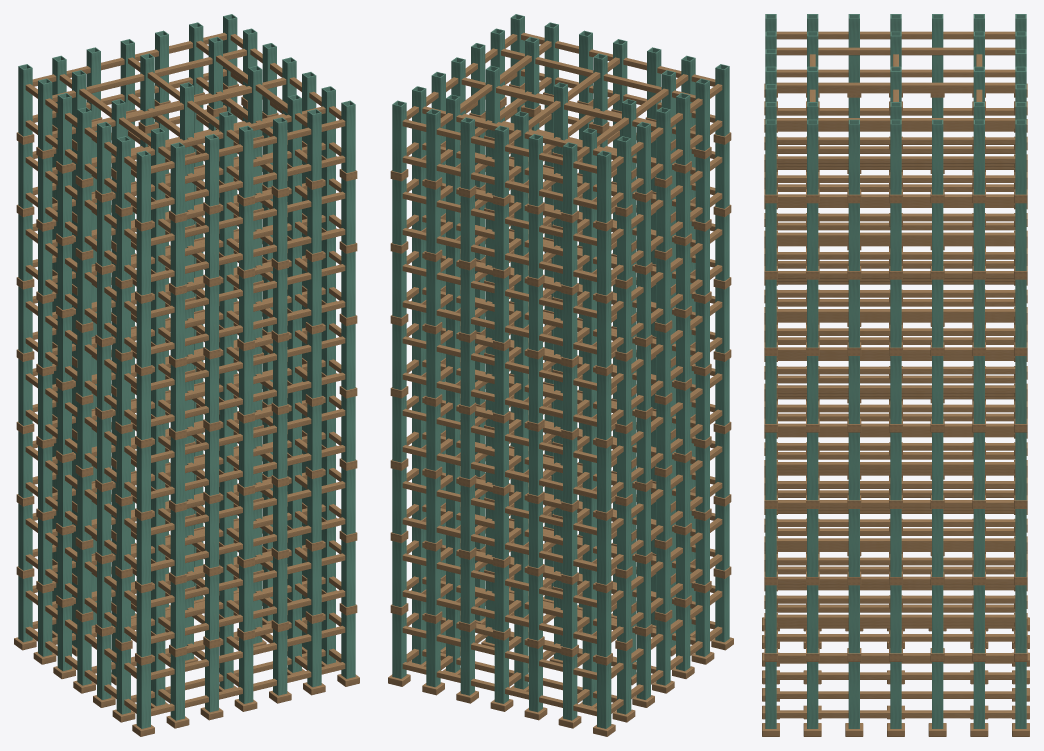
3 views of the same model, side by side, from view 1: azimuth 30°, elevation 25°; view 2: azimuth 150°, elevation 25°; view 3: azimuth 270°, elevation 25° (orthographic). The views are drawn at different scales.
Parts seen in each view (by area): view 1: Tier 7 internal tie 0-0.56-0-0.75, Tier 7 internal tie 0-0-0-0.75, Tier 2 tie 0-0-0.25, Tier 2 tie 0-0-0.75, Tier 3 tie 0-0-0.25, Tier 5 tie 0-0-0.75, Tier 6 tie 0-0-0.75, Tier 0 tie 0-0-0.75, Tier 1 tie 0-0-0.25, Tier 5 tie 0-0-0.25, Tier 0 tie 0-0-0.25, Tier 4 tie 0-0-0.25 (+187 smaller); view 2: Tier 7 internal tie 0--0.56-0-0.75, Tier 7 internal tie 0-0-0-0.75, Tier 2 tie 2-0-0.25, Tier 2 tie 2-0-0.75, Tier 3 tie 2-0-0.25, Tier 5 tie 2-0-0.75, Tier 6 tie 2-0-0.75, Tier 0 tie 2-0-0.75, Tier 1 tie 2-0-0.25, Tier 5 tie 2-0-0.25, Tier 0 tie 2-0-0.25, Tier 4 tie 2-0-0.25 (+187 smaller); view 3: Tier 7 internal tie 1--0.56-0-0.75, Tier 7 internal tie 1-0-0-0.75, Tier 0 tie 1-0-0.25, Tier 1 internal tie 1-0.56-0-0.25, Tier 1 tie 1-0-0.75, Tier 4 internal tie 1-0.56-0-0.25, Tier 2 tie 1-0-0.25, Tier 4 tie 1-0-0.25, Tier 4 tie 1-0-0.75, Tier 6 internal tie 1-0.56-0-0.25, Tier 6 tie 1-0-0.75, Tier 7 tie 3-0-0.25 (+126 smaller).
Part boxes in pixels (x1,y1,x2,y2): Tier 7 internal tie 0-0.56-0-0.75: [52, 48, 246, 102]; Tier 7 internal tie 0-0-0-0.75: [91, 77, 286, 130]; Tier 2 tie 0-0-0.25: [151, 517, 345, 571]; Tier 2 tie 0-0-0.75: [151, 481, 345, 535]; Tier 3 tie 0-0-0.25: [151, 445, 345, 499]; Tier 5 tie 0-0-0.75: [151, 264, 345, 318]; Tier 6 tie 0-0-0.75: [151, 191, 345, 245]; Tier 0 tie 0-0-0.75: [151, 625, 345, 679]; Tier 1 tie 0-0-0.25: [151, 589, 345, 643]; Tier 5 tie 0-0-0.25: [151, 300, 345, 354]; Tier 0 tie 0-0-0.25: [151, 662, 345, 716]; Tier 4 tie 0-0-0.25: [151, 372, 345, 426]; Tier 7 internal tie 0--0.56-0-0.75: [501, 48, 695, 102]; Tier 7 internal tie 0-0-0-0.75: [461, 77, 656, 130]; Tier 2 tie 2-0-0.25: [402, 517, 596, 571]; Tier 2 tie 2-0-0.75: [402, 481, 596, 535]; Tier 3 tie 2-0-0.25: [402, 445, 596, 499]; Tier 5 tie 2-0-0.75: [402, 264, 596, 318]; Tier 6 tie 2-0-0.75: [402, 191, 596, 245]; Tier 0 tie 2-0-0.75: [402, 625, 596, 679]; Tier 1 tie 2-0-0.25: [402, 589, 596, 643]; Tier 5 tie 2-0-0.25: [402, 300, 596, 354]; Tier 0 tie 2-0-0.25: [402, 662, 596, 716]; Tier 4 tie 2-0-0.25: [402, 372, 596, 426]; Tier 7 internal tie 1--0.56-0-0.75: [776, 47, 1015, 55]; Tier 7 internal tie 1-0-0-0.75: [776, 82, 1015, 90]; Tier 0 tie 1-0-0.25: [776, 710, 1015, 718]; Tier 1 internal tie 1-0.56-0-0.25: [776, 614, 1015, 622]; Tier 1 tie 1-0-0.75: [776, 595, 1015, 603]; Tier 4 internal tie 1-0.56-0-0.25: [776, 385, 1015, 393]; Tier 2 tie 1-0-0.25: [776, 557, 1015, 565]; Tier 4 tie 1-0-0.25: [776, 404, 1015, 412]; Tier 4 tie 1-0-0.75: [776, 366, 1015, 374]; Tier 6 internal tie 1-0.56-0-0.25: [776, 232, 1015, 240]; Tier 6 tie 1-0-0.75: [776, 213, 1015, 221]; Tier 7 tie 3-0-0.25: [776, 69, 1015, 77].
Bounding box in the file's own units: 1.8 × 4.53 × 1.8.
2 materials, 2 textured.
